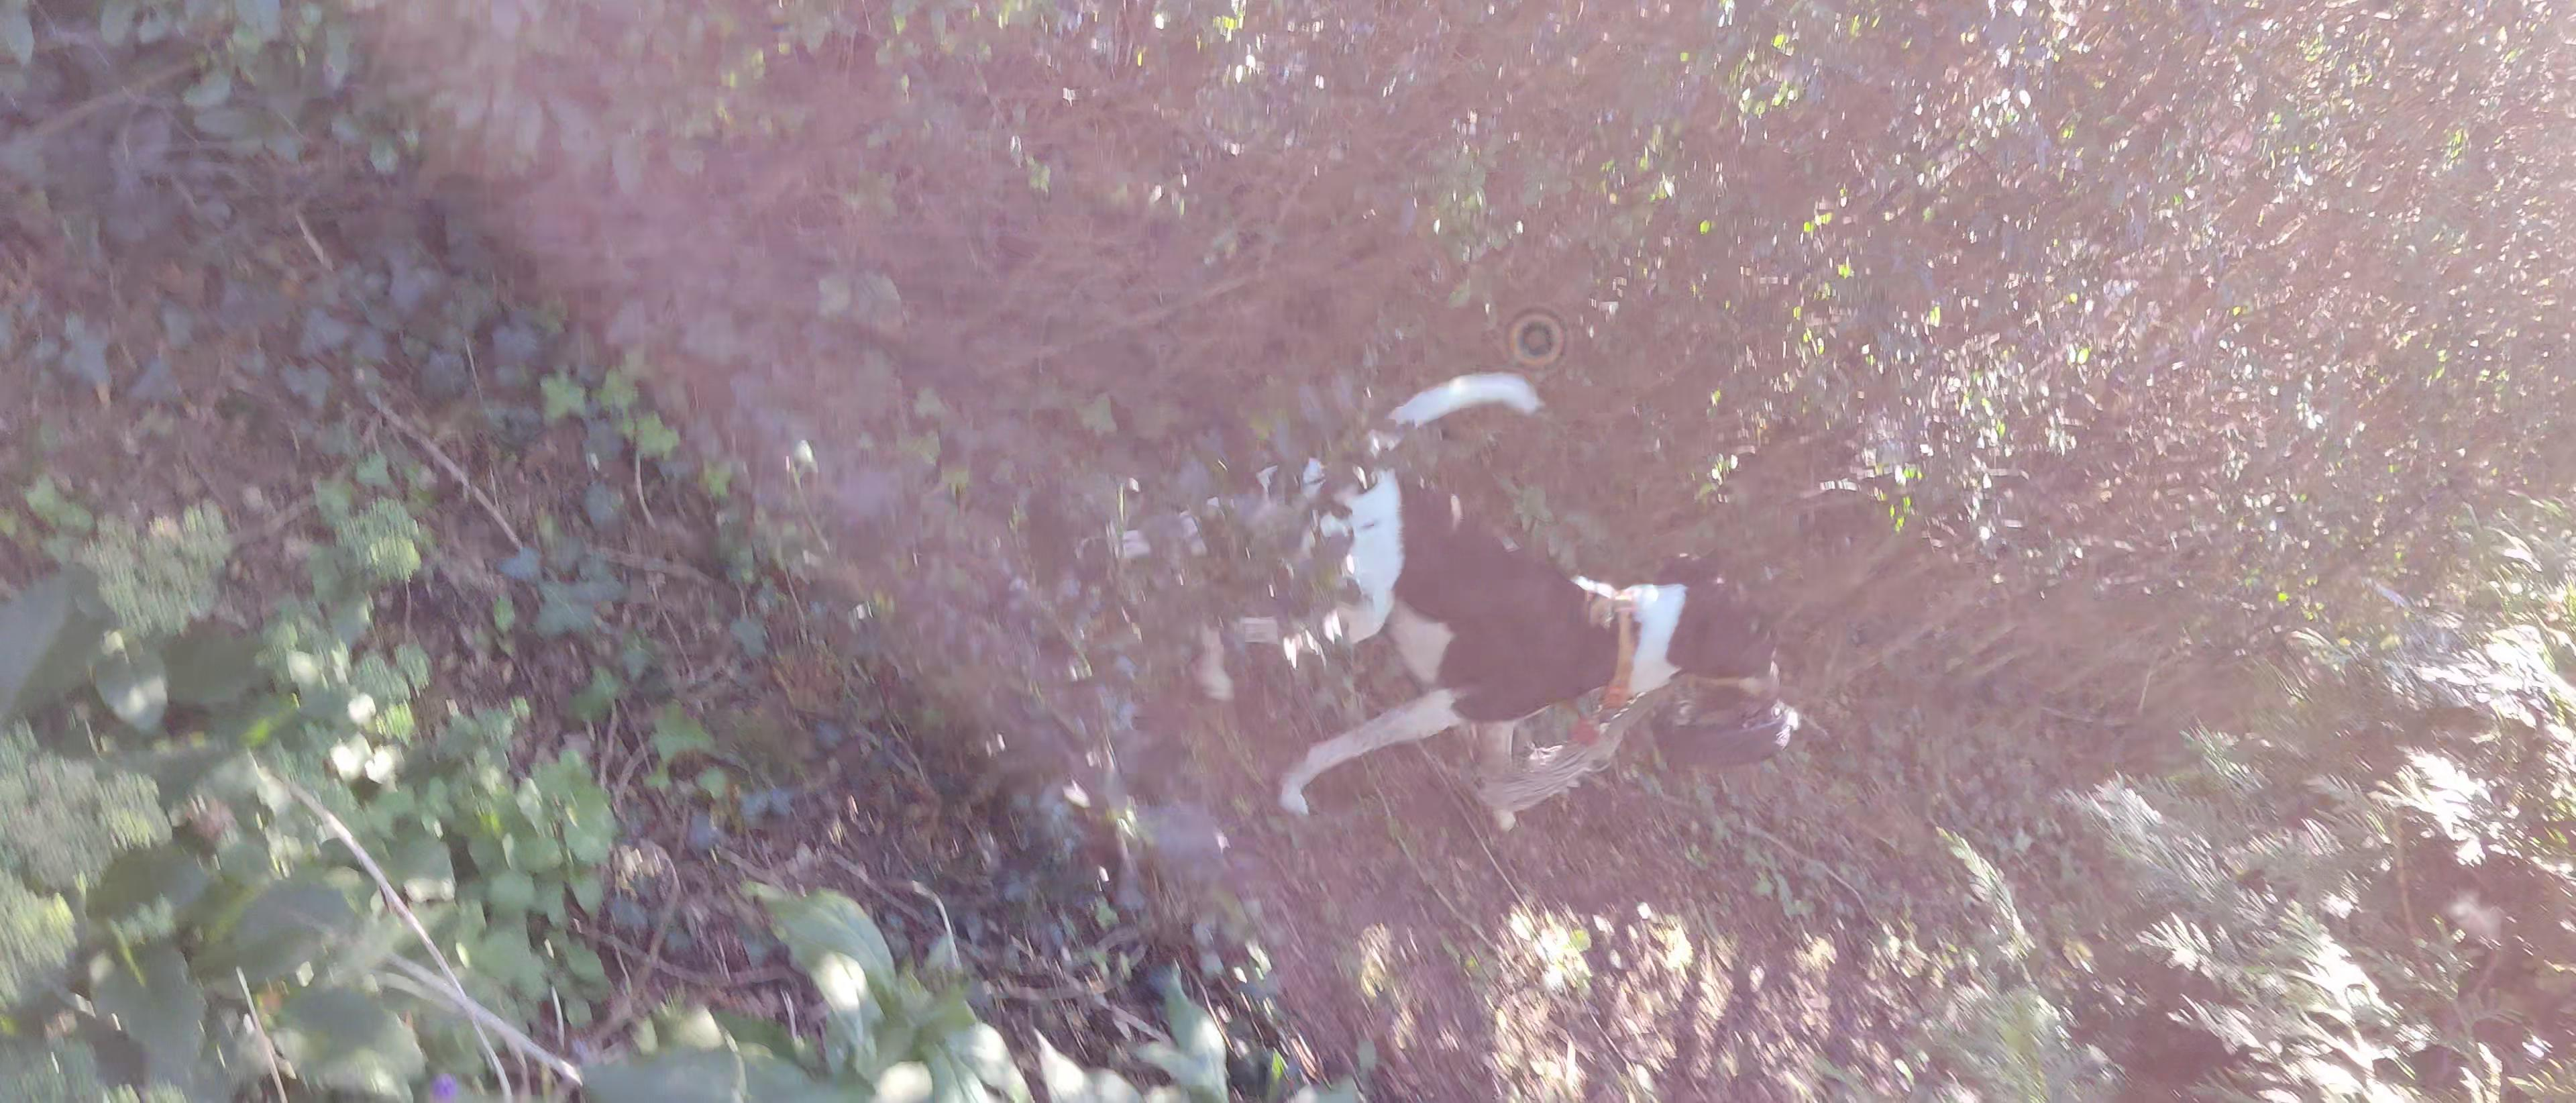Dog: (1074, 368, 1782, 824)
